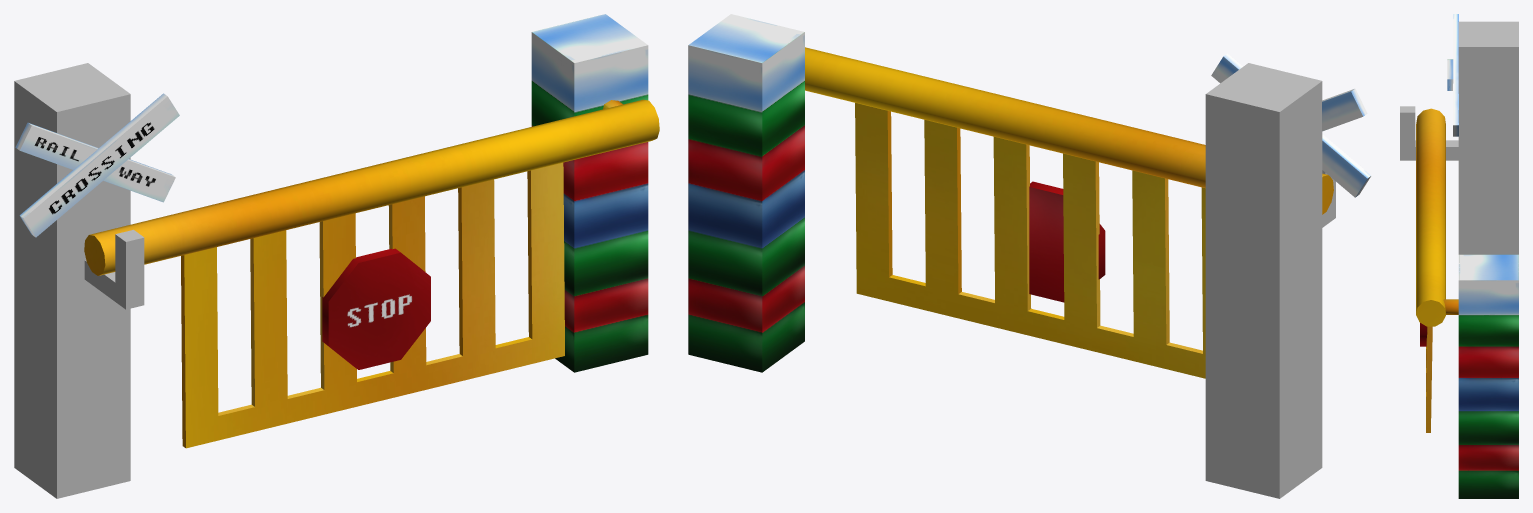
Rendered from Toy World Gate.FBX.
3 renders of one model, left to right at view 1: azimuth 30°, elevation 25°; view 2: azimuth 150°, elevation 25°; view 3: azimuth 270°, elevation 25°, orthographic. The views are drawn at different scales.
Parts seen in each view (by area): view 1: Gate, Left Post, Right Post, Stop, Crossing, Railway; view 2: Gate, Left Post, Right Post, Stop, Crossing, Railway; view 3: Left Post, Right Post, Gate, Railway, Crossing, Stop.
Part boxes in pixels (x1,y1,x2,y2): Gate: (84,99,659,448); Left Post: (14,63,144,498); Right Post: (531,14,648,372); Stop: (322,248,430,369); Crossing: (19,93,179,237); Railway: (15,122,175,202); Gate: (805,47,1333,378); Left Post: (1205,63,1335,498); Right Post: (688,14,804,372); Stop: (1029,181,1105,302); Crossing: (1211,53,1371,197); Railway: (1322,88,1367,131); Left Post: (1400,21,1518,254); Right Post: (1443,254,1518,498); Gate: (1416,108,1445,432); Railway: (1453,14,1458,136); Crossing: (1447,59,1453,90); Stop: (1420,323,1427,346).
Bounding box in the file's own units: 8.56 × 5 × 1.97.
